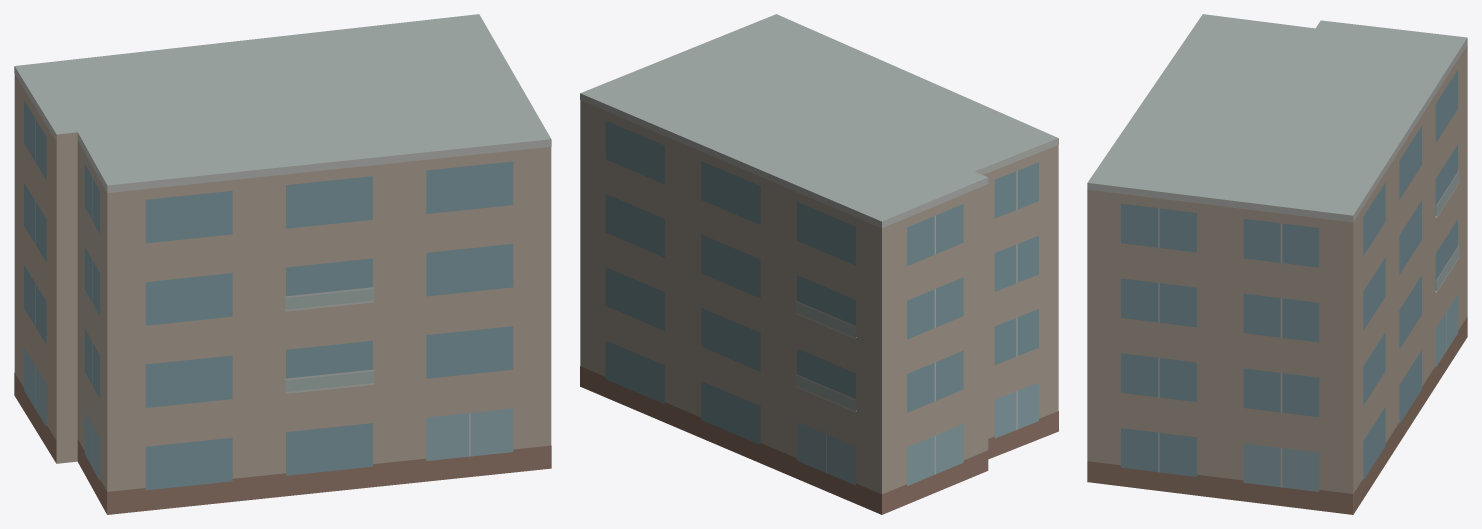
File: survey-upis-32873684.glb
3 views of the same model, side by side, from view 1: azimuth 30°, elevation 25°; view 2: azimuth 150°, elevation 25°; view 3: azimuth 270°, elevation 25° (orthographic). The views are drawn at different scales.
Parts seen in each view (by area): view 1: survey-upis-32873684.tmp; view 2: survey-upis-32873684.tmp; view 3: survey-upis-32873684.tmp.
Boxes of the visible parts, x1,y1,x2,y2 form: survey-upis-32873684.tmp: (14, 14, 551, 514); survey-upis-32873684.tmp: (580, 14, 1058, 514); survey-upis-32873684.tmp: (1087, 14, 1467, 514).
Bounding box in the file's own units: 15.4 × 10.65 × 12.28.
